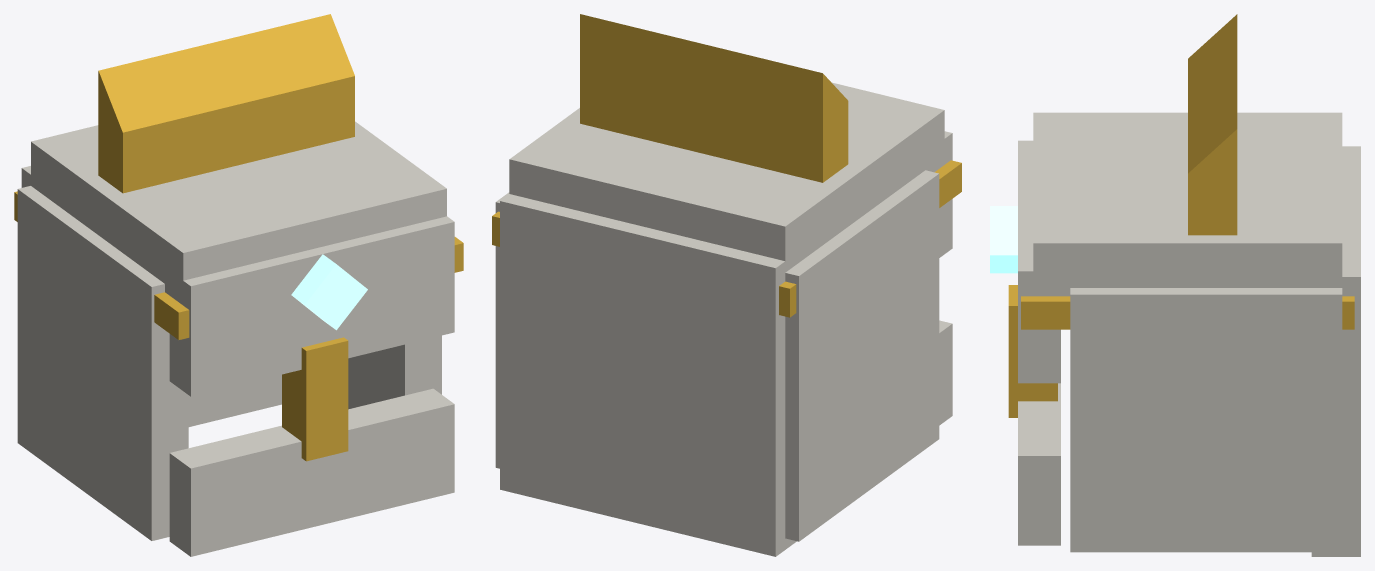
File: starforged_helm.glb
The picture shows the model from 3 angles, left to right: view 1: azimuth 30°, elevation 25°; view 2: azimuth 150°, elevation 25°; view 3: azimuth 270°, elevation 25°; orthographic projection. The views are drawn at different scales.
Parts seen in each view (by area): view 1: starforged_helm; view 2: starforged_helm; view 3: starforged_helm.
Boxes of the visible parts, bbox=[...] form: starforged_helm: bbox=[14, 14, 463, 556]; starforged_helm: bbox=[492, 14, 961, 556]; starforged_helm: bbox=[990, 14, 1360, 556].
Size of the model in its own units: 0.55 by 0.75 by 0.6.
